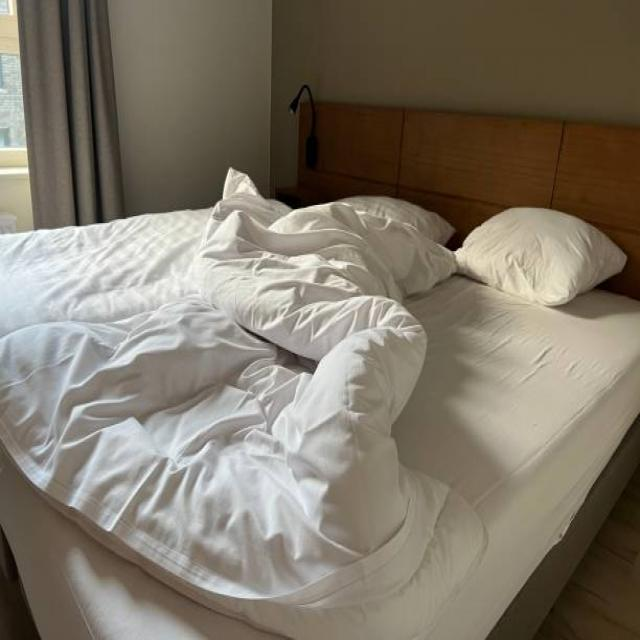bed: (0, 158, 636, 640)
